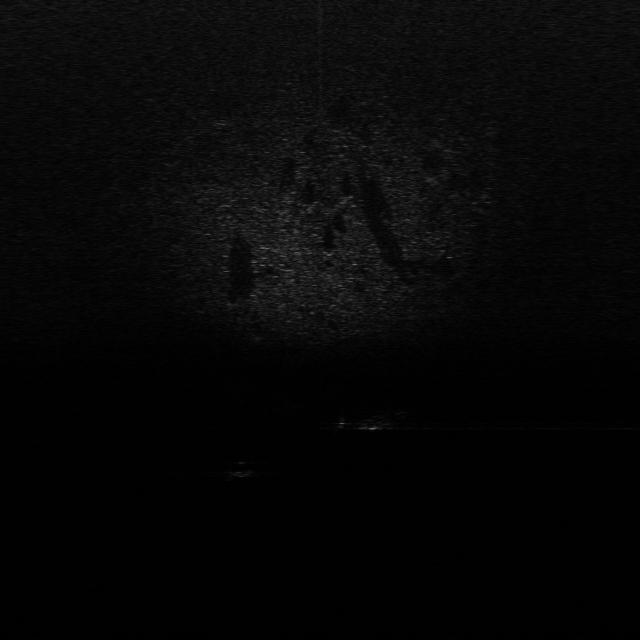ball: (226, 456, 256, 478)
human body: (333, 410, 408, 432)
